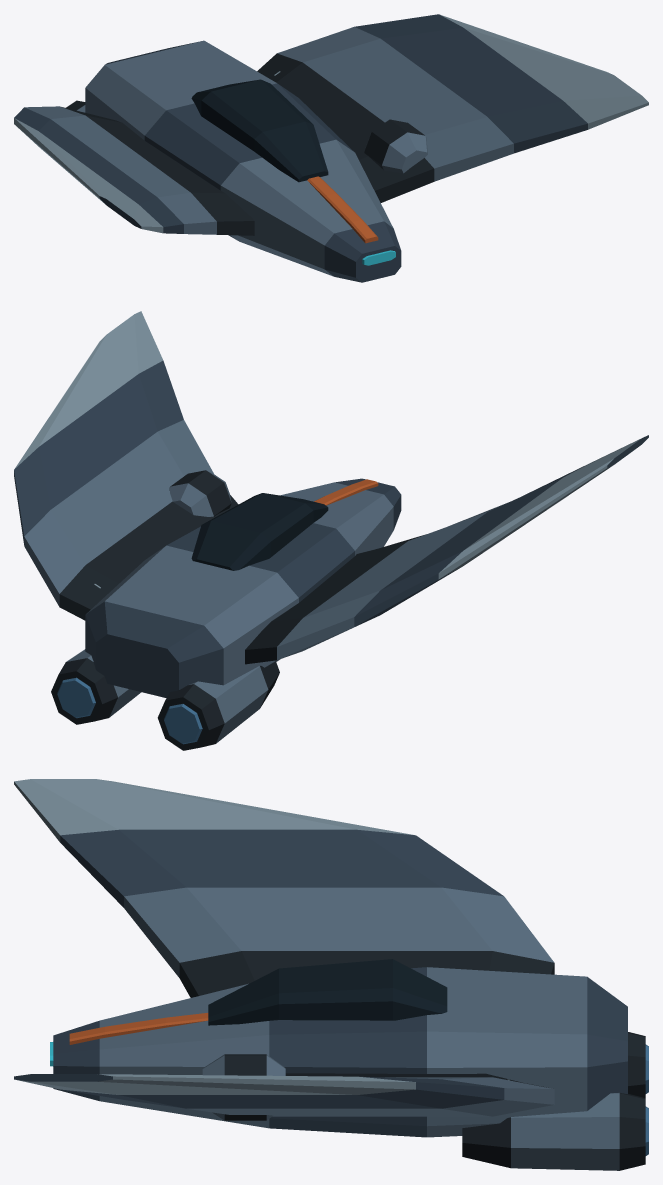
The model's file is FangFireHullExposed.obj.
3 views of the same model, one above another, from view 1: azimuth 30°, elevation 25°; view 2: azimuth 150°, elevation 25°; view 3: azimuth 270°, elevation 25° (orthographic). The views are drawn at different scales.
Parts seen in each view (by area): view 1: starboard_wing, fuselage, port_wing, canopy, starboard_cannon_housing, copper_spine; view 2: starboard_wing, fuselage, port_wing, canopy, port_engine, starboard_engine, starboard_cannon_housing, starboard_exhaust, port_exhaust, copper_spine; view 3: port_wing, fuselage, starboard_wing, canopy, starboard_engine, starboard_cannon_housing, copper_spine, port_engine.
Part boxes in pixels (bbox=[...]): starboard_wing: bbox=[257, 14, 648, 202]; fuselage: bbox=[85, 40, 401, 282]; port_wing: bbox=[14, 106, 254, 235]; canopy: bbox=[191, 79, 328, 182]; starboard_cannon_housing: bbox=[364, 119, 427, 173]; copper_spine: bbox=[307, 176, 378, 243]; starboard_wing: bbox=[14, 311, 238, 620]; fuselage: bbox=[85, 478, 401, 697]; port_wing: bbox=[245, 435, 648, 664]; canopy: bbox=[191, 493, 328, 570]; port_engine: bbox=[157, 661, 279, 750]; starboard_engine: bbox=[51, 649, 141, 724]; starboard_cannon_housing: bbox=[169, 470, 231, 517]; starboard_exhaust: bbox=[57, 677, 95, 718]; port_exhaust: bbox=[164, 704, 202, 744]; copper_spine: bbox=[314, 479, 378, 505]; port_wing: bbox=[14, 779, 554, 997]; fuselage: bbox=[53, 967, 627, 1137]; starboard_wing: bbox=[14, 1073, 554, 1116]; canopy: bbox=[208, 959, 447, 1025]; starboard_engine: bbox=[462, 1092, 645, 1170]; starboard_cannon_housing: bbox=[202, 1054, 285, 1120]; copper_spine: bbox=[69, 1013, 208, 1044]; port_engine: bbox=[628, 1032, 645, 1097].
Bounding box in the file's own units: 5.14 × 1.72 × 4.67.
